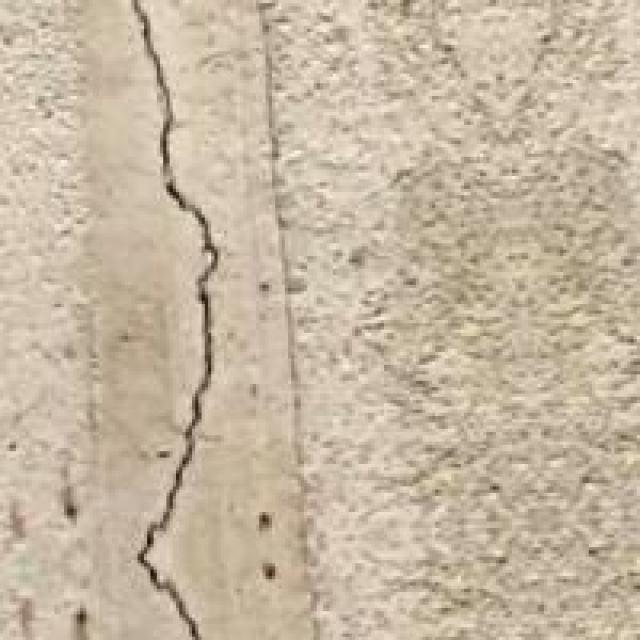crack: (77, 0, 301, 637)
